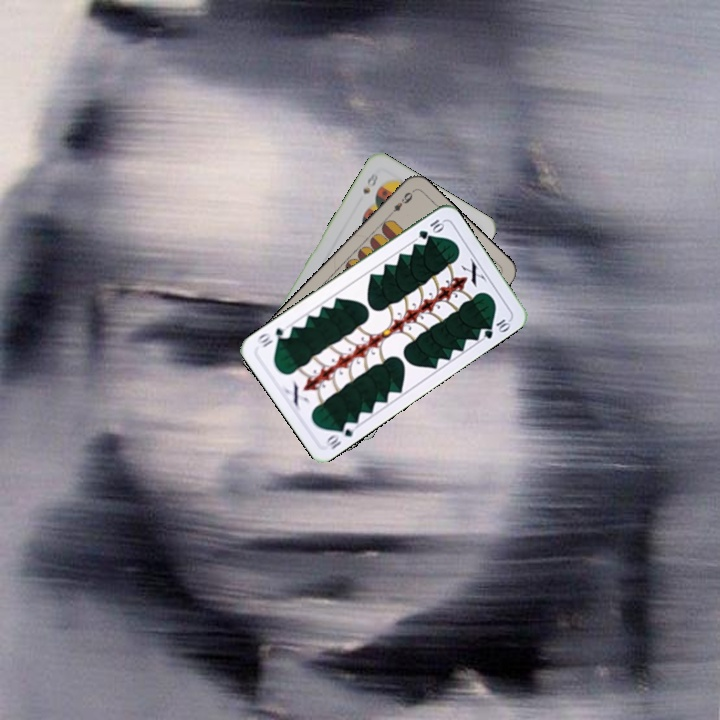E9: (384, 188, 415, 219)
G10: (322, 417, 359, 452), (415, 215, 447, 242)
S8: (359, 169, 381, 197)
